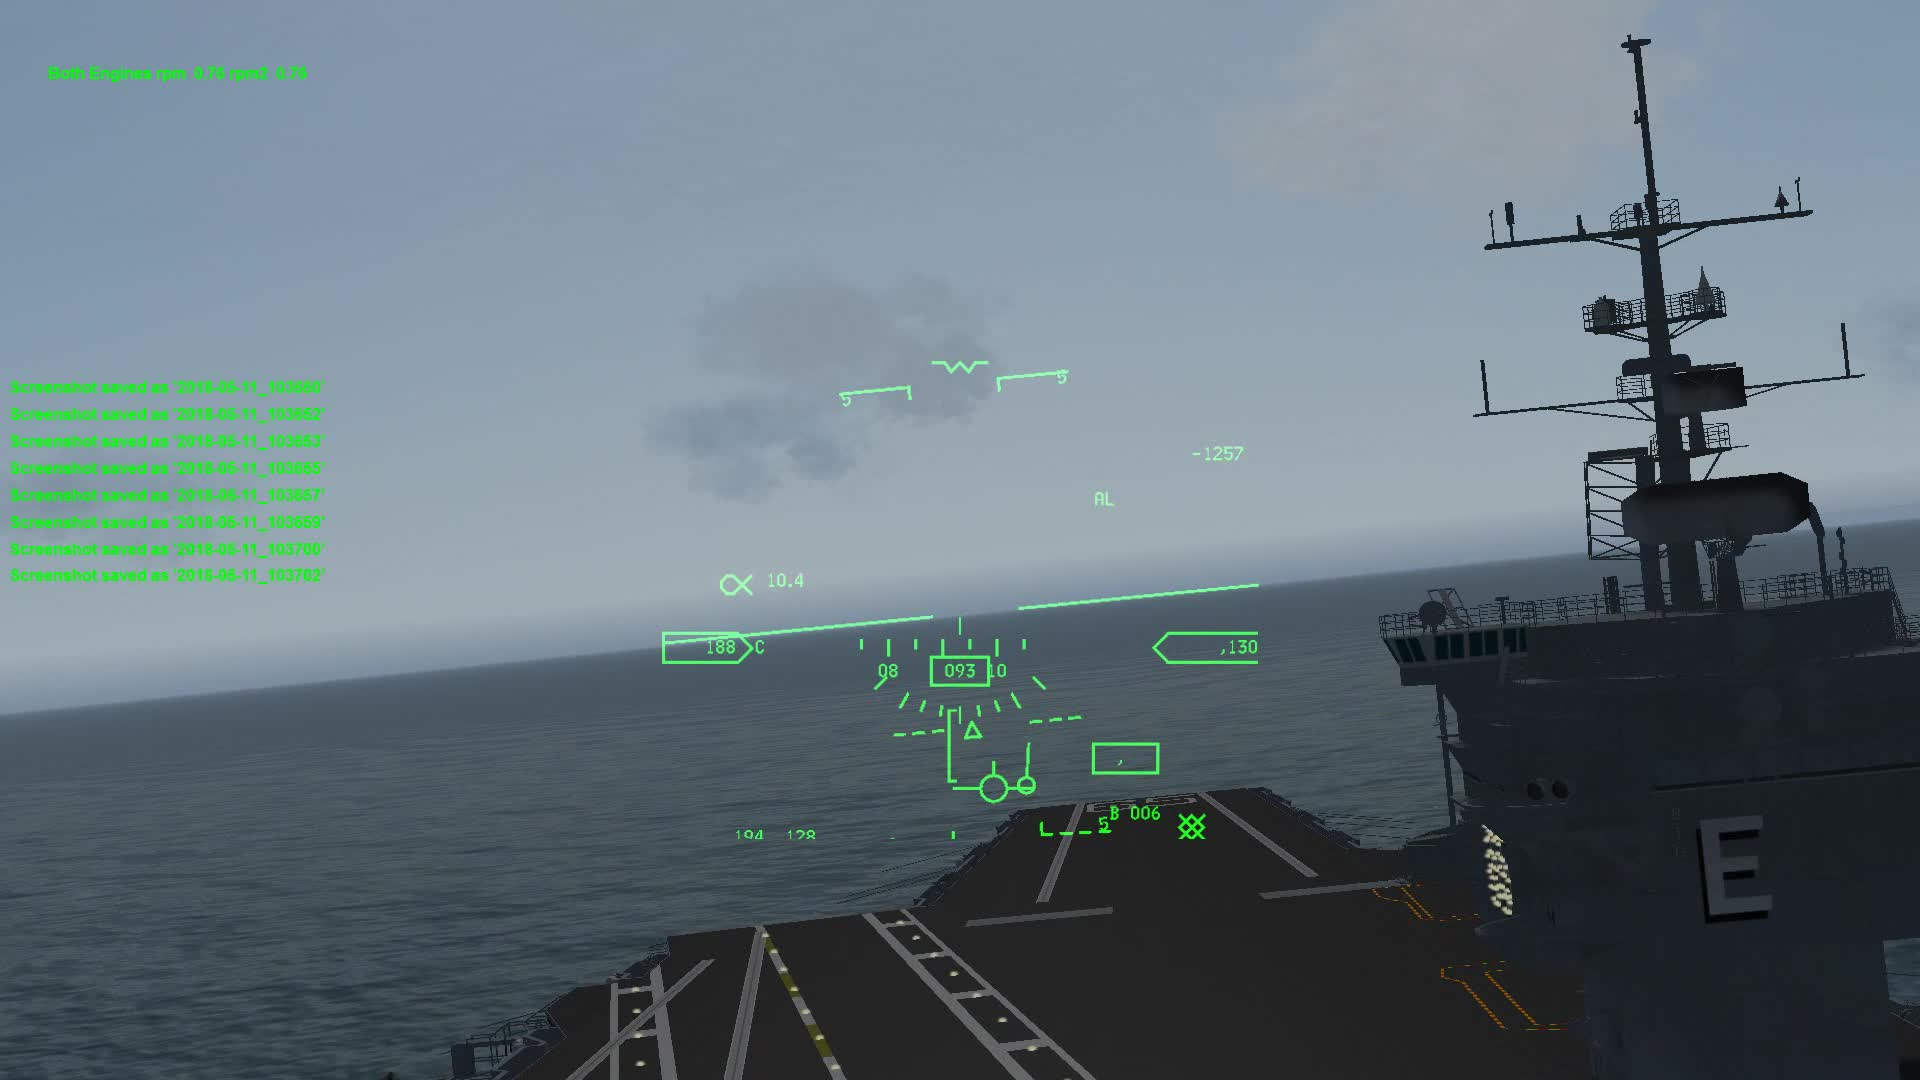speed vector: (955, 758, 1052, 808)
